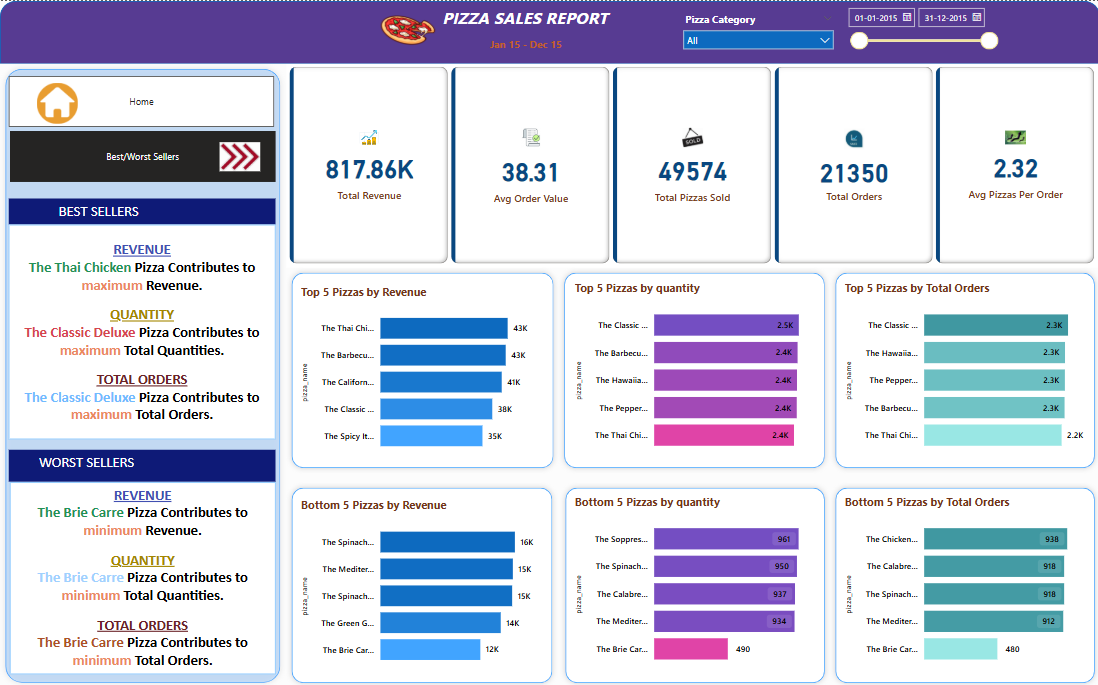

Layout of this report page (visuals, bound fields, positions):
{"tool":"powerbi","page":{"name":"Best/Worst Sellers","canvas":[1600,1000],"ordinal":1},"visuals":[{"type":"shape","box":[0,91.4,415.5,908.6],"z":0},{"type":"cardVisual","fields":{"Data":["pizza_sales Data.Total Revenue","pizza_sales Data.Avg Order Value","pizza_sales Data.Total Pizzas Sold","pizza_sales Data.Total Orders","pizza_sales Data.Avg Pizzas Per Order"]},"box":[415.5,91.4,1184.5,296.6],"z":1000},{"type":"shape","box":[0,0,1600,91.4],"z":2000},{"type":"image","box":[546.8,6.5,91.9,69.4],"z":3000},{"type":"shape","box":[415.5,387.9,396.6,300],"z":4000},{"type":"textbox","box":[12.1,287.9,387.9,37.9],"z":5000},{"type":"textbox","box":[12.1,325.9,387.9,312.1],"z":6000},{"type":"textbox","box":[12.1,653.4,387.9,46.6],"z":7000},{"type":"slicer","fields":{"Values":["pizza_sales Data.pizza_category"]},"box":[983.9,11.3,238.7,64.5],"z":8000},{"type":"slicer","fields":{"Values":["pizza_sales Data.order_date"]},"box":[1222.6,0,238.7,108.1],"z":9000},{"type":"shape","box":[812.1,387.9,394.8,300],"z":10000},{"type":"shape","box":[1206.9,387.9,393.1,300],"z":11000},{"type":"shape","box":[415.5,700,394.8,300],"z":12000},{"type":"shape","box":[813.8,700,393.1,300],"z":13000},{"type":"shape","box":[1206.9,700,393.1,300],"z":14000},{"type":"barChart","title":"Top 5 Pizzas by Revenue","fields":{"Y":["pizza_sales Data.Total Revenue"],"Category":["pizza_sales Data.pizza_name"]},"box":[432.8,410.3,360.3,258.6],"z":15000},{"type":"barChart","title":"Bottom 5 Pizzas by Revenue","fields":{"Y":["pizza_sales Data.Total Revenue"],"Category":["pizza_sales Data.pizza_name"]},"box":[432.8,722.4,360.3,258.6],"z":16000},{"type":"barChart","title":"Top 5 Pizzas by quantity","fields":{"Category":["pizza_sales Data.pizza_name"],"Y":["pizza_sales Data.Total Pizzas Sold"]},"box":[831,405.2,360.3,263.8],"z":17000},{"type":"barChart","title":"Bottom 5 Pizzas by quantity","fields":{"Category":["pizza_sales Data.pizza_name"],"Y":["pizza_sales Data.Total Pizzas Sold"]},"box":[831,717.2,360.3,263.8],"z":18000},{"type":"barChart","title":"Top 5 Pizzas by Total Orders","fields":{"Category":["pizza_sales Data.pizza_name"],"Y":["pizza_sales Data.Total Orders"]},"box":[1224.1,405.2,360.3,263.8],"z":19000},{"type":"barChart","title":"Bottom 5 Pizzas by Total Orders","fields":{"Category":["pizza_sales Data.pizza_name"],"Y":["pizza_sales Data.Total Orders"]},"box":[1224.1,717.2,360.3,263.8],"z":20000},{"type":"textbox","box":[13.8,700,386.2,279.3],"z":21000},{"type":"textbox","box":[638.7,3.2,269.4,43.5],"z":22000},{"type":"textbox","box":[708.1,46.8,127.4,32.3],"z":23000},{"type":"pageNavigator","box":[13.8,189.7,386.2,74.1],"z":24000},{"type":"pageNavigator","box":[12.1,108.6,386.2,74.1],"z":25000},{"type":"image","box":[48.3,113.8,69,69],"z":26000},{"type":"image","box":[313.8,191.4,69,70.7],"z":27000}]}

Visuals, with their boxes in screenshot pixels (x1, y1, x2, y2), scaled from the page's 1600x1000 canvas onto the 1098x685 screenshot:
shape: region(0, 63, 285, 684)
cardVisual - pizza_sales Data.Total Revenue x pizza_sales Data.Avg Order Value: region(285, 63, 1097, 266)
shape: region(0, 0, 1097, 63)
image: region(375, 4, 438, 52)
shape: region(285, 266, 557, 471)
textbox: region(8, 197, 274, 223)
textbox: region(8, 223, 274, 437)
textbox: region(8, 448, 274, 480)
slicer - pizza_sales Data.pizza_category: region(675, 8, 839, 52)
slicer - pizza_sales Data.order_date: region(839, 0, 1003, 74)
shape: region(557, 266, 828, 471)
shape: region(828, 266, 1097, 471)
shape: region(285, 480, 556, 684)
shape: region(558, 480, 828, 684)
shape: region(828, 480, 1097, 684)
"Top 5 Pizzas by Revenue" barChart: region(297, 281, 544, 458)
"Bottom 5 Pizzas by Revenue" barChart: region(297, 495, 544, 672)
"Top 5 Pizzas by quantity" barChart: region(570, 278, 818, 458)
"Bottom 5 Pizzas by quantity" barChart: region(570, 491, 818, 672)
"Top 5 Pizzas by Total Orders" barChart: region(840, 278, 1087, 458)
"Bottom 5 Pizzas by Total Orders" barChart: region(840, 491, 1087, 672)
textbox: region(9, 480, 274, 671)
textbox: region(438, 2, 623, 32)
textbox: region(486, 32, 573, 54)
pageNavigator: region(9, 130, 274, 181)
pageNavigator: region(8, 74, 273, 125)
image: region(33, 78, 80, 125)
image: region(215, 131, 263, 180)
